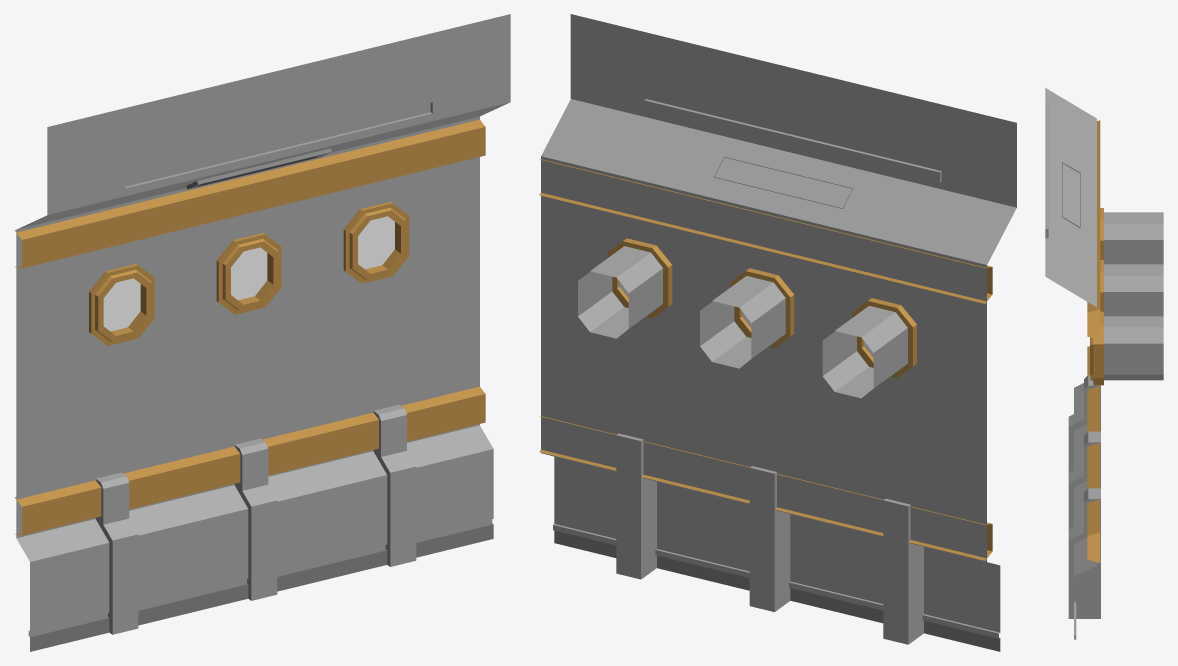
File: SmallWindows_Wall_SideA_GD.glb
3 renders of one model, left to right at view 1: azimuth 30°, elevation 25°; view 2: azimuth 150°, elevation 25°; view 3: azimuth 270°, elevation 25°, orthographic. The views are drawn at different scales.
Parts seen in each view (by area): view 1: SmallWindows_Wall_SideA; view 2: SmallWindows_Wall_SideA; view 3: SmallWindows_Wall_SideA.
Boxes of the visible parts, box(x1,y1,x2,y2) form: SmallWindows_Wall_SideA: box(14, 14, 510, 651); SmallWindows_Wall_SideA: box(539, 14, 1016, 651); SmallWindows_Wall_SideA: box(1045, 88, 1163, 639).
Bounding box in the file's own units: 30 × 33.23 × 7.94.
